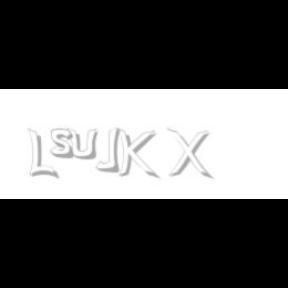J: (94, 128, 120, 172)
K: (116, 128, 156, 180)
L: (28, 128, 56, 180)
X: (166, 128, 210, 180)
s: (50, 128, 78, 160)
u: (66, 128, 102, 160)
